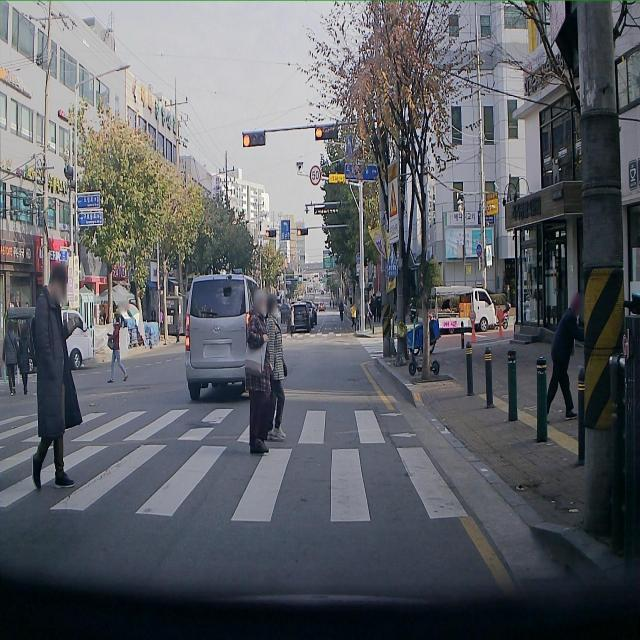crosswalk: (0, 409, 476, 523), (356, 333, 437, 360), (182, 330, 349, 343), (0, 369, 62, 385)
